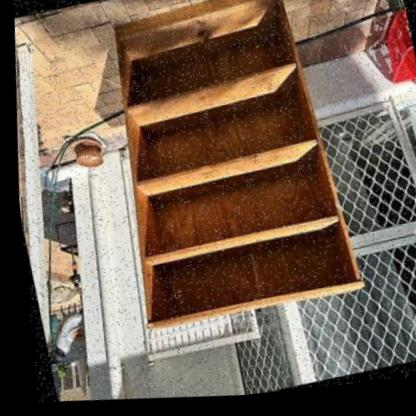Shelf: (56, 0, 387, 356)
